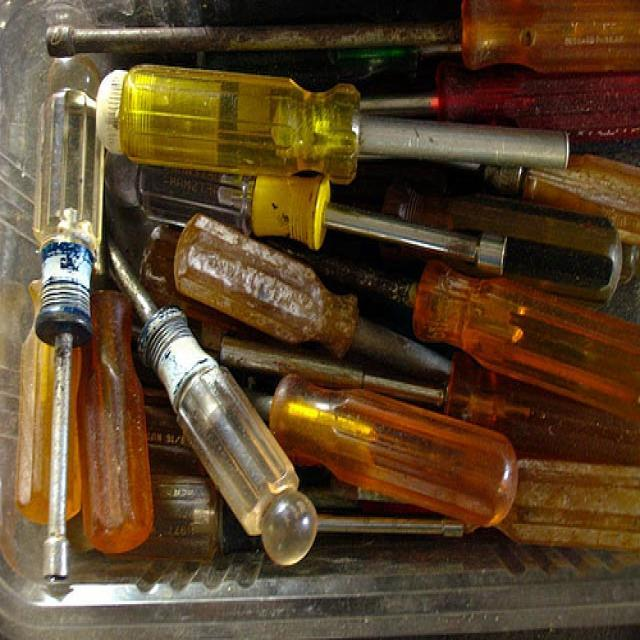screwdriver: (81, 50, 584, 200), (122, 141, 614, 294), (109, 235, 338, 562), (25, 60, 115, 617)
